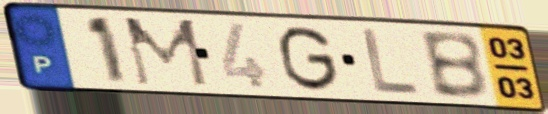1: (84, 15, 130, 85)
4: (218, 20, 270, 91)
B: (415, 29, 492, 102)
G: (276, 23, 343, 94)
L: (359, 26, 422, 99)
M: (120, 15, 212, 89)
